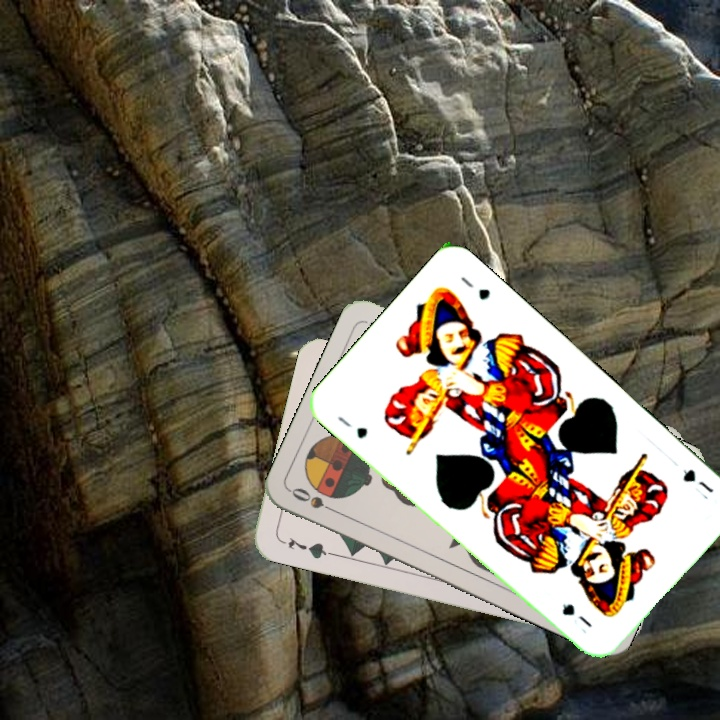G7: (277, 533, 335, 562)
GU: (678, 465, 716, 496), (333, 412, 370, 442)
SO: (287, 483, 343, 517)
